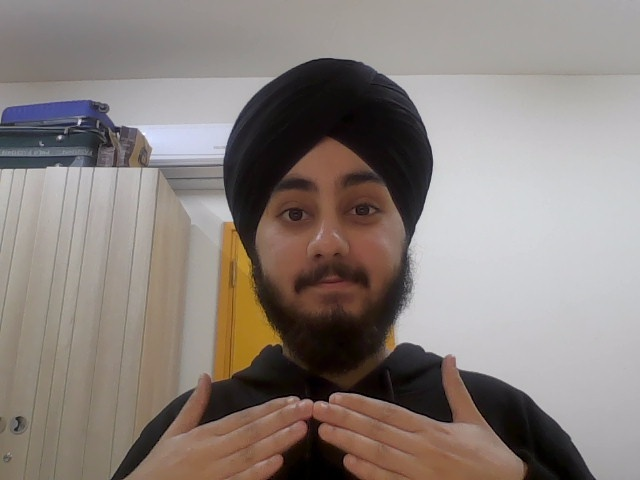Thanks: (135, 352, 527, 480)
